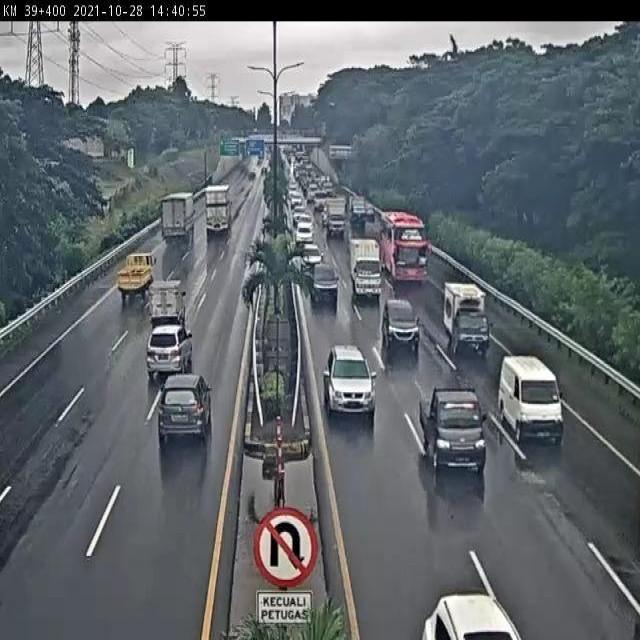bus-l-: (379, 208, 430, 284)
car: (497, 352, 565, 448), (418, 384, 488, 473), (157, 372, 213, 444), (323, 344, 374, 417), (146, 324, 193, 376), (382, 296, 421, 352), (309, 261, 339, 304), (299, 244, 323, 273)
small truck: (116, 250, 157, 302), (147, 278, 187, 326)
truck-m-: (349, 238, 384, 298)
truck-s-: (442, 280, 492, 357)
